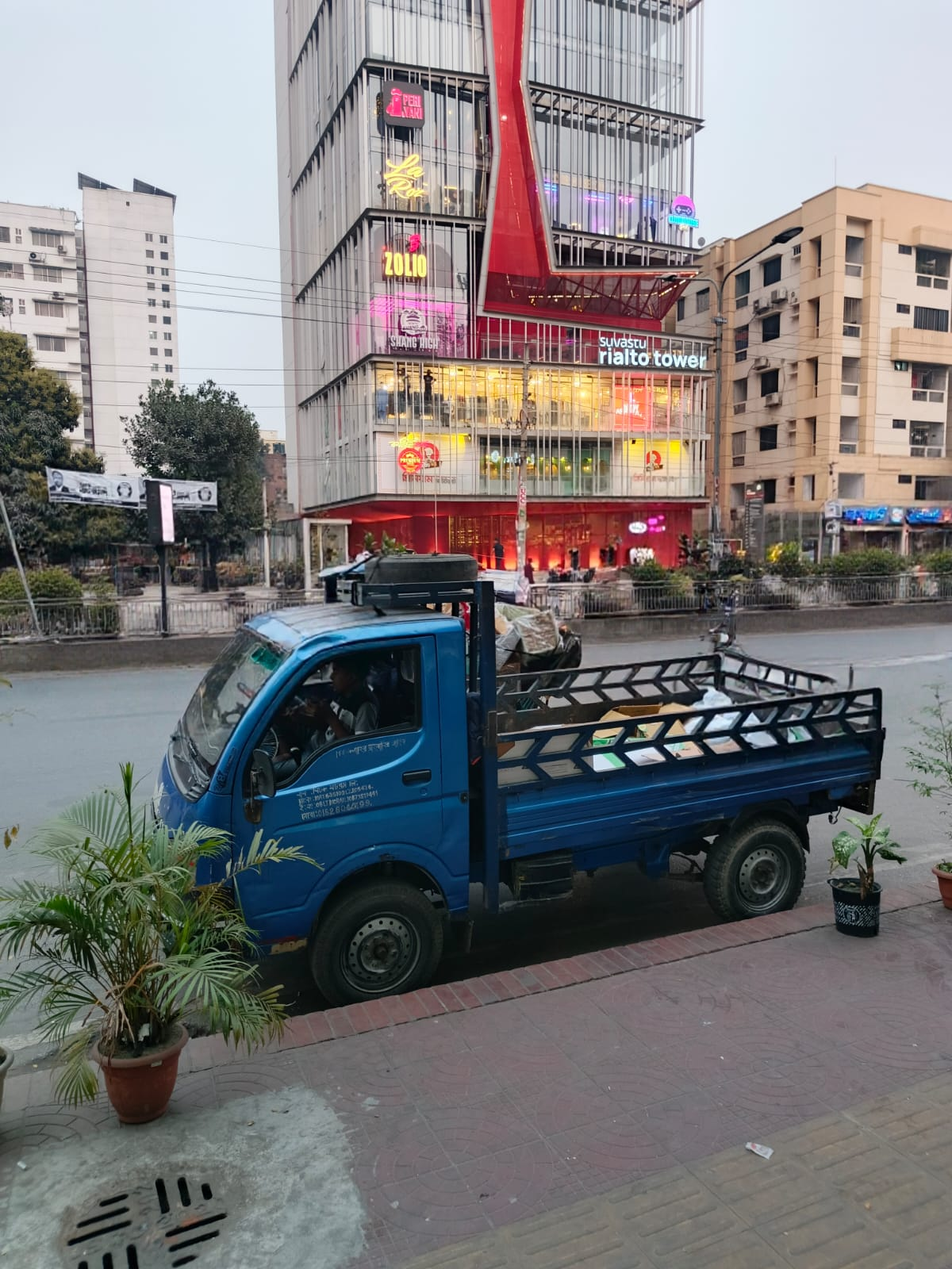Pickup: (139, 533, 902, 988)
